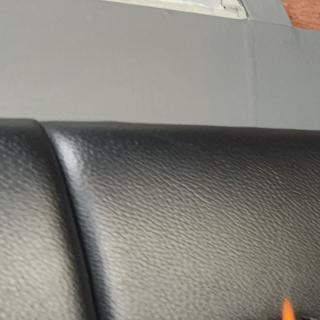fire: (277, 295, 299, 320)
